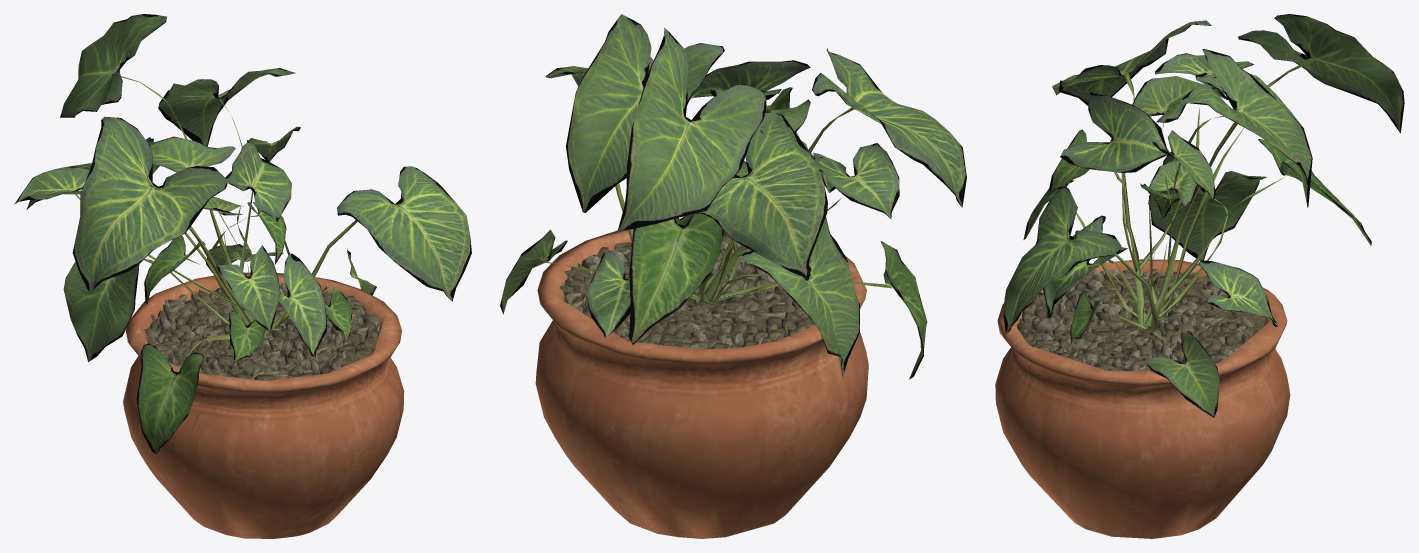
The model's file is plant2.glb.
3 renders of one model, left to right at view 1: azimuth 30°, elevation 25°; view 2: azimuth 150°, elevation 25°; view 3: azimuth 270°, elevation 25°, orthographic. The views are drawn at different scales.
Parts seen in each view (by area): view 1: potted_plant_02_leaves, potted_plant_02_pot; view 2: potted_plant_02_leaves, potted_plant_02_pot; view 3: potted_plant_02_pot, potted_plant_02_leaves.
Part boxes in pixels (<box>): potted_plant_02_leaves: <box>14,14,471,454</box>; potted_plant_02_pot: <box>123,272,404,538</box>; potted_plant_02_leaves: <box>500,14,966,379</box>; potted_plant_02_pot: <box>535,229,868,538</box>; potted_plant_02_pot: <box>995,259,1290,538</box>; potted_plant_02_leaves: <box>1003,14,1404,417</box>.
Size of the model in its own units: 0.7012 by 0.8397 by 0.6561.
2 materials, 2 textured.
